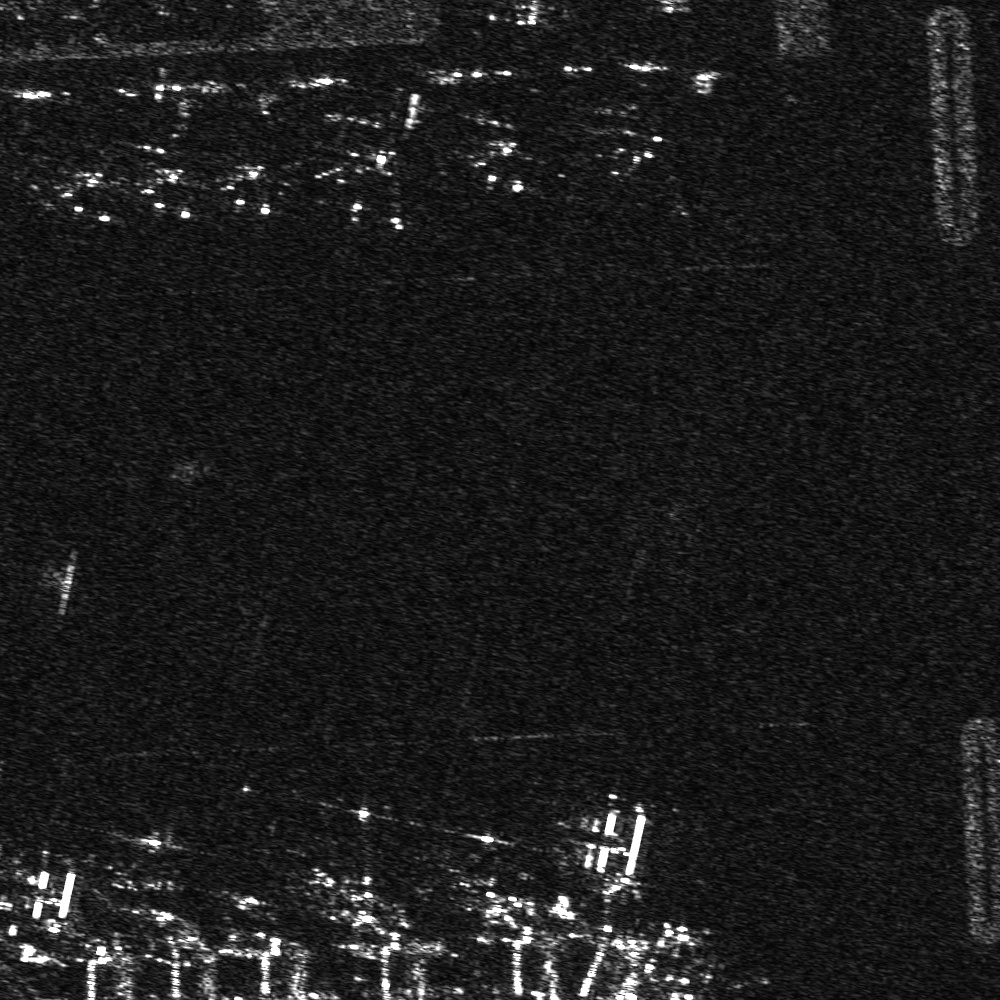A220: (85, 817, 196, 905)
A320/321: (283, 791, 396, 906), (427, 817, 531, 905)
Boeing737: (470, 116, 546, 195), (596, 109, 671, 173), (130, 163, 206, 224), (220, 159, 292, 216), (53, 169, 124, 223)
other: (313, 136, 447, 231)
